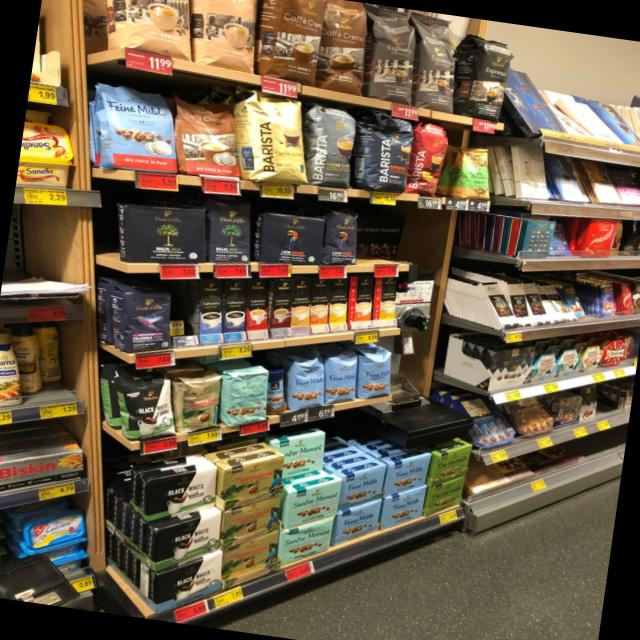Athiopien Bohne: (448, 142, 498, 202)
BM Bohne: (207, 197, 254, 264)
BM Gemahlen: (121, 204, 208, 264)
BW Bohne: (120, 375, 178, 442)
BW Gemahlen: (155, 551, 222, 615), (144, 466, 217, 522), (154, 511, 221, 572)
Barista CB: (241, 87, 310, 186)
Barista CC: (310, 100, 360, 189)
Barista Espresso: (363, 110, 414, 195)
Barista Kolumbien: (406, 121, 452, 197)
C Fino Bohne: (119, 290, 174, 355)
CC Vollmundig: (173, 93, 242, 179)
Colombia BB Bohne: (177, 374, 223, 435)
Colombia BB Gemahlen: (224, 455, 285, 510), (221, 496, 282, 550), (223, 530, 278, 589)
Empty Shelf: (360, 214, 423, 266), (172, 279, 199, 337)
Espresso Aromatisch: (365, 4, 414, 105), (412, 13, 457, 114)
Espresso Kraftig: (454, 30, 518, 124)
FM 36 Pads: (93, 80, 179, 174)
FM Bohne: (289, 355, 327, 411), (325, 353, 360, 406), (360, 349, 394, 401)
Herzhatfe Mundig: (429, 444, 472, 487), (425, 476, 466, 518)
LG Bohne: (322, 209, 363, 266)
LG Gemahlen: (259, 210, 325, 266)
SM Bohne: (222, 369, 269, 428)
SM Gemahlen: (284, 480, 342, 530), (280, 516, 336, 567), (332, 498, 382, 548), (336, 464, 387, 512), (381, 485, 428, 531), (384, 453, 431, 497)
Simo CCMild: (372, 278, 398, 328)
Simo CCMild bigpack: (329, 278, 349, 332)
Simo CCVollmundig: (348, 276, 374, 329)
Simo CCVollmundig bigpack: (309, 278, 331, 334)
Simo Decaff: (291, 278, 312, 336)
Simo Es Brazil: (247, 279, 269, 340)
Simo Es Caramel: (270, 279, 294, 337)
Simo Es Kraft: (224, 279, 246, 343)
Simo Es Vanilla: (200, 279, 223, 344)
